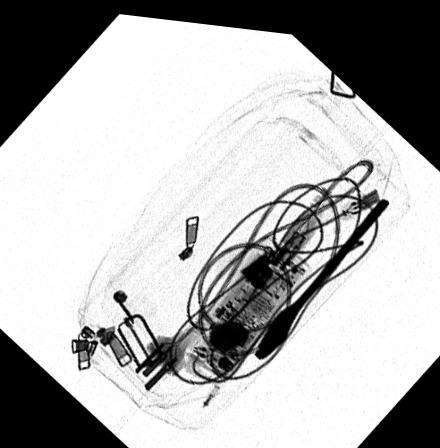Wrench: (254, 186, 391, 352)
